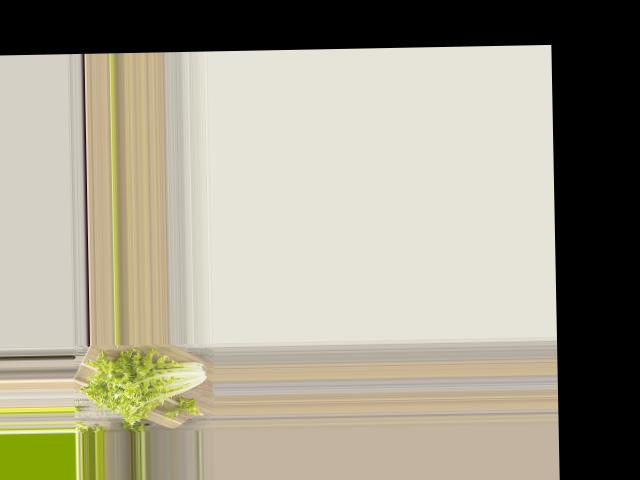lettuce: (85, 347, 214, 423)
